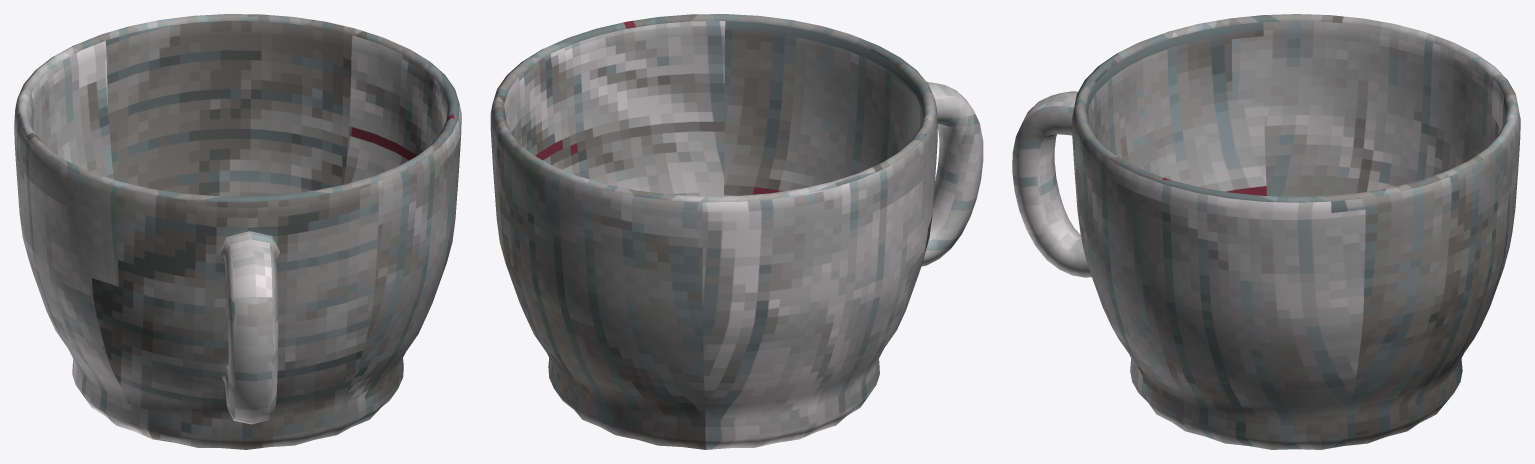
Rendered from Tazza_2.fbx.
The picture shows the model from 3 angles, left to right: view 1: azimuth 30°, elevation 25°; view 2: azimuth 150°, elevation 25°; view 3: azimuth 270°, elevation 25°; orthographic projection.
Visible parts, largest first — view 1: pCylinder3; view 2: pCylinder3; view 3: pCylinder3.
Part boxes in pixels (<box>): pCylinder3: <box>14,14,461,449</box>; pCylinder3: <box>490,14,983,449</box>; pCylinder3: <box>1012,14,1520,449</box>.
Bounding box in the file's own units: 0.9377 × 0.653 × 1.06.
1 material, 1 textured.
